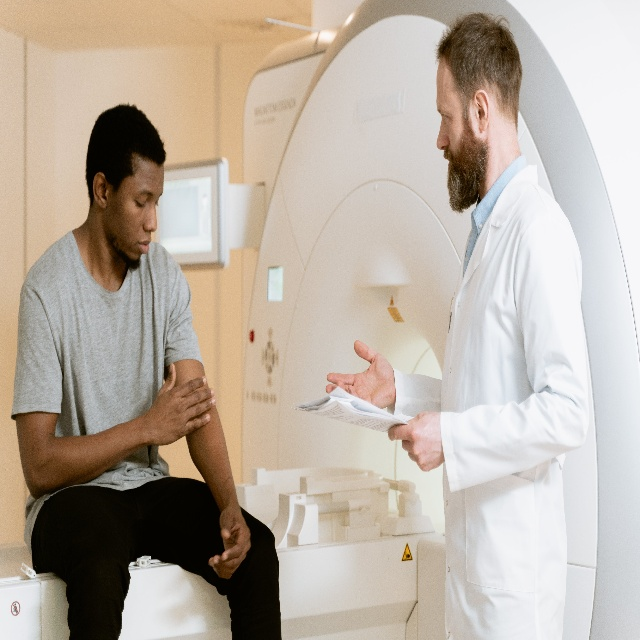Sin_guantes: (146, 358, 217, 448), (324, 336, 397, 411), (387, 406, 447, 473), (208, 499, 252, 580)
